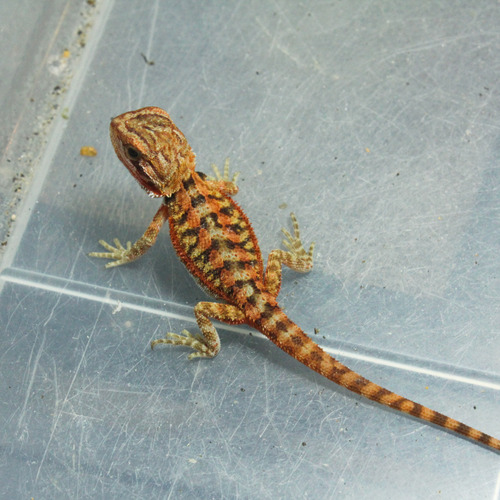bearded: (89, 106, 500, 450)
